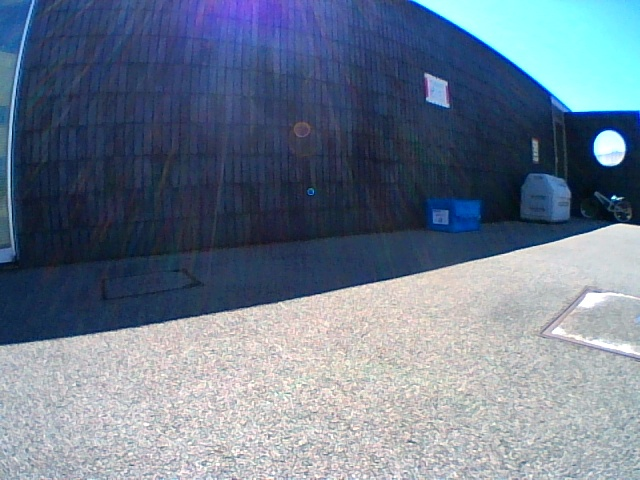blue_box: (428, 199, 479, 231)
tag: (432, 211, 446, 223)
